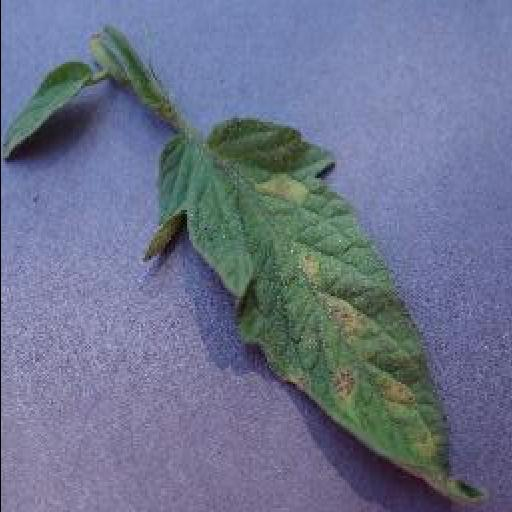disease_tomato: (140, 120, 490, 502)
